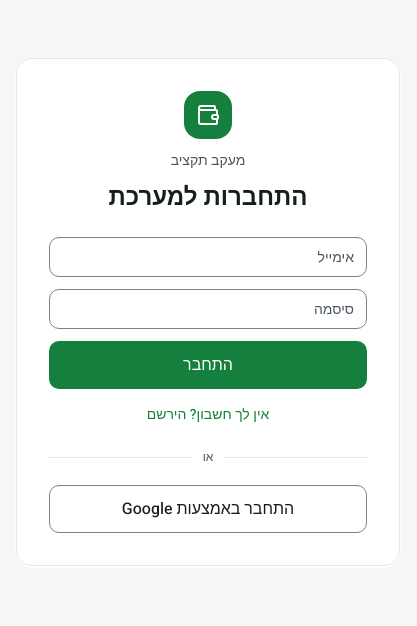
Scenario: Login form › an unverified account shows an alert and the resend button works without submitting
The image size is (417, 626).
Submit the form, box [49,237,367,429]
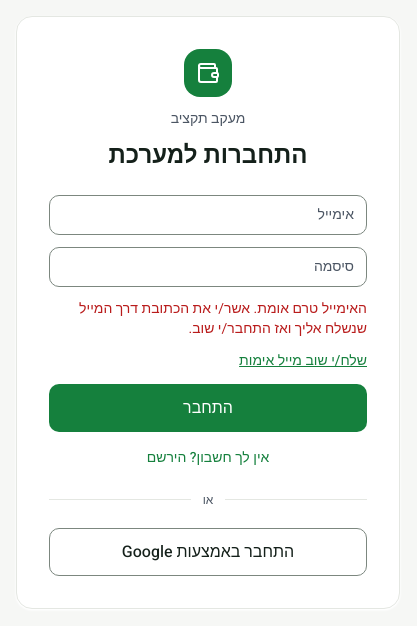
Result: the message "האימייל טרם אומת. אשר/י את הכתובת דרך המייל שנשלח אליך ואז התחבר/י שוב." is shown at [49,298,367,338]
Click the button "שלח/י שוב מייל אימות" at (303, 360), box [239,350,367,370]
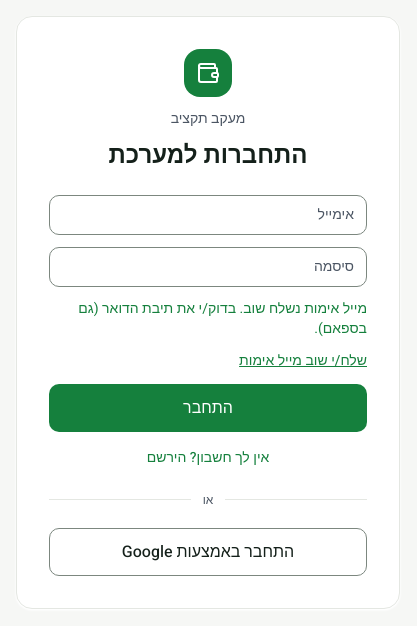
Result: the message "מייל אימות נשלח שוב. בדוק/י את תיבת הדואר (גם בספאם)." is shown at [49,298,367,338]
